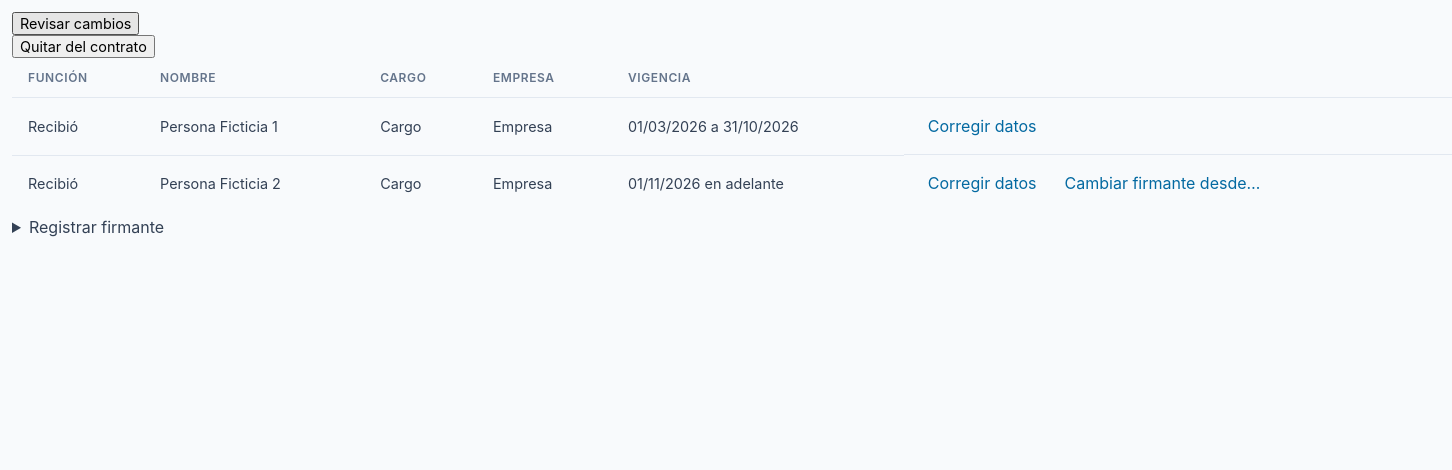
Test: FirmantesContrato › ofrece cambiar desde una fecha solo al más reciente y propone el mes siguiente
Click the button "Cambiar firmante desde…": (1162, 183) [1056, 167, 1268, 199]
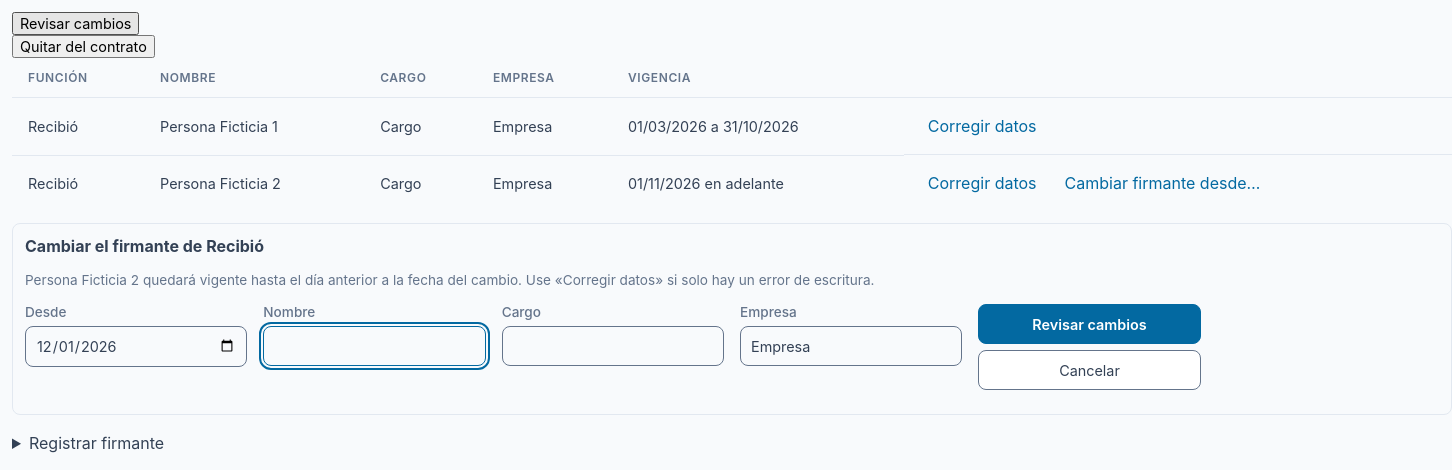
Expected: the date field labelled "Desde" holds "2026-12-01", [25, 326, 247, 367]
Click the button named "Corregir datos de Recibió": (982, 126) [920, 110, 1045, 142]
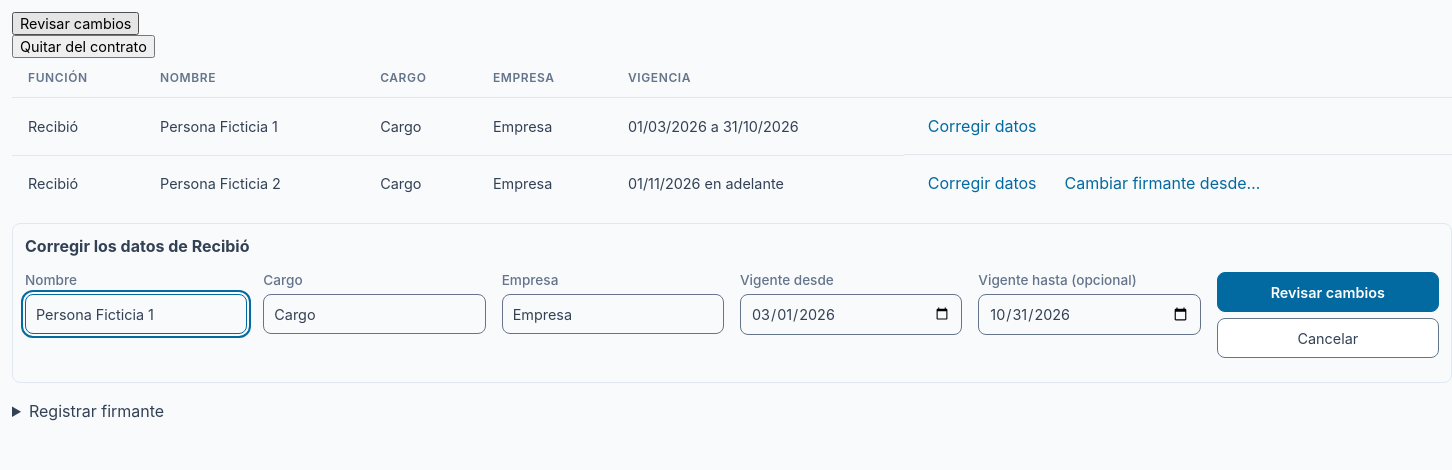
Expected: the field labelled "Nombre" holds "Persona Ficticia 1", [25, 294, 247, 334]
